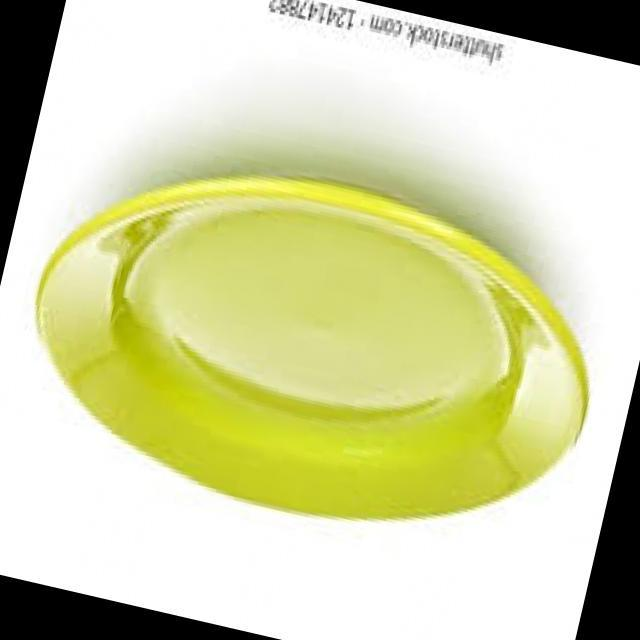plate: (0, 111, 630, 588)
